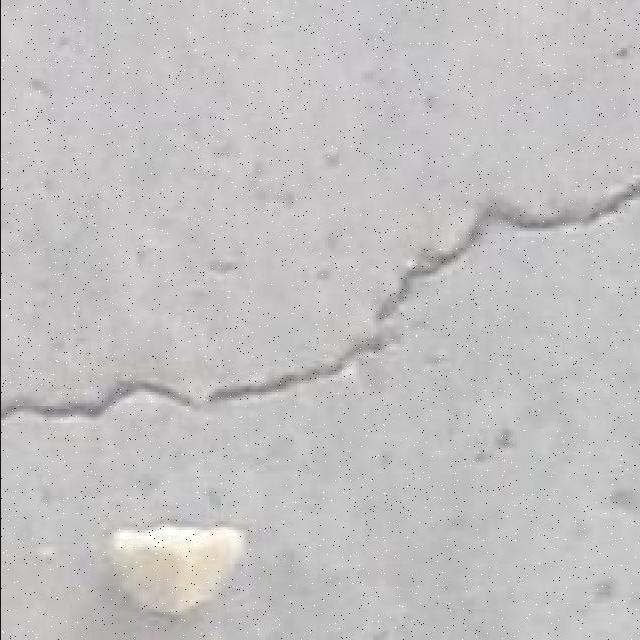crack: (4, 177, 638, 424), (384, 18, 629, 640), (488, 171, 635, 230), (5, 379, 194, 422), (415, 200, 488, 267)
dampness: (4, 366, 638, 635)
